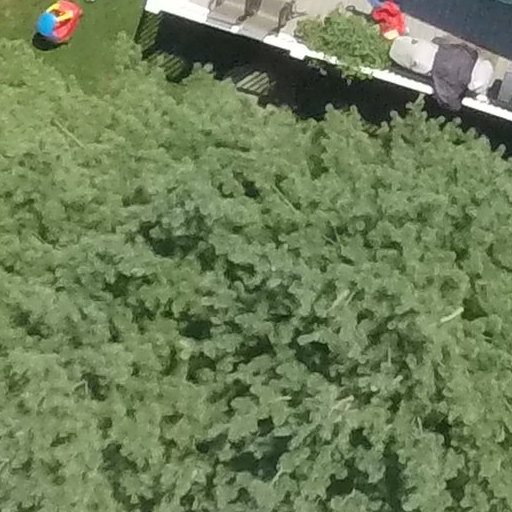toy: (33, 1, 85, 50)
